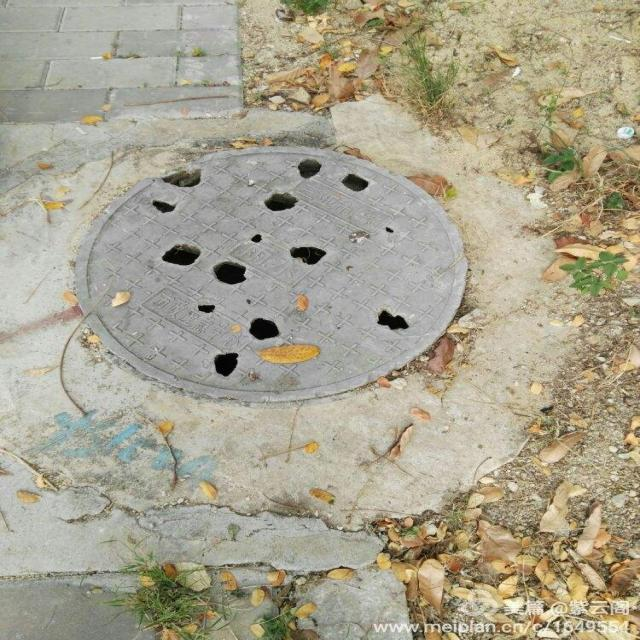Faulty: (69, 142, 467, 400)
